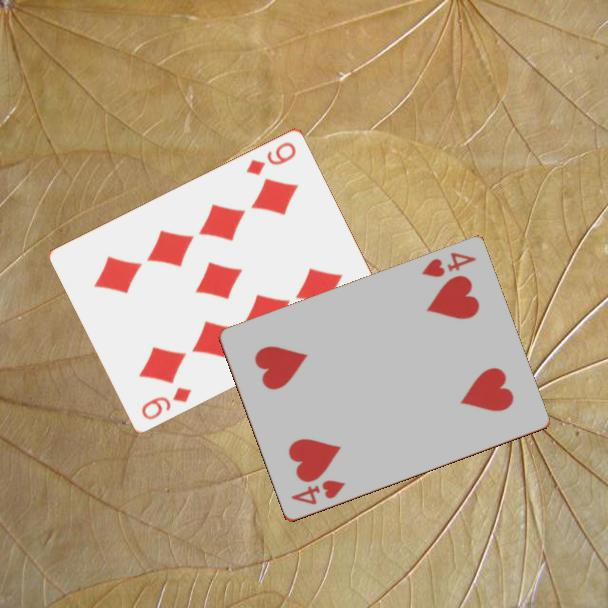d09: (243, 138, 299, 178), (138, 383, 195, 422)
h04: (417, 249, 479, 281), (287, 477, 348, 508)
